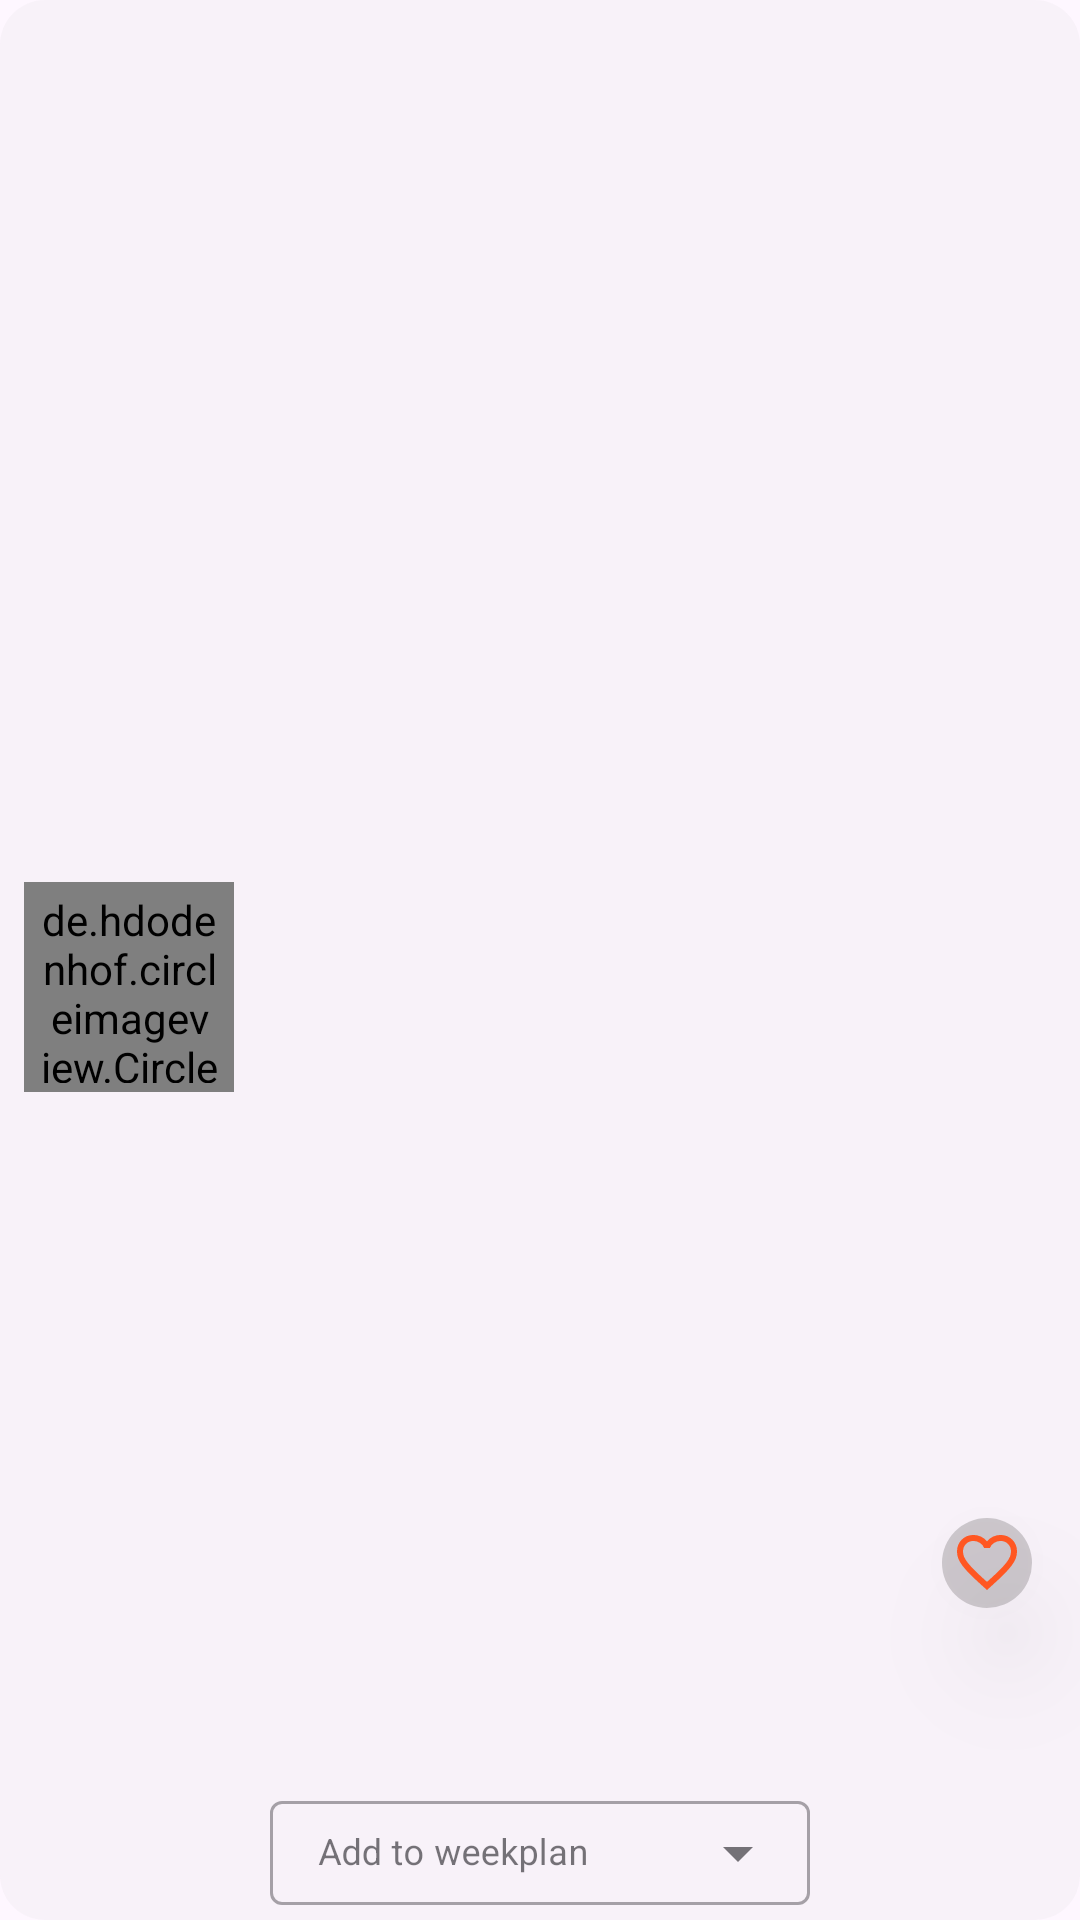

Icons on this 1080px x 1920px Android screen, each with its box as (x1=x1, y1=y1, x2=x2, y2=y2):
favourite: (x1=942, y1=1518, x2=1032, y2=1608)
